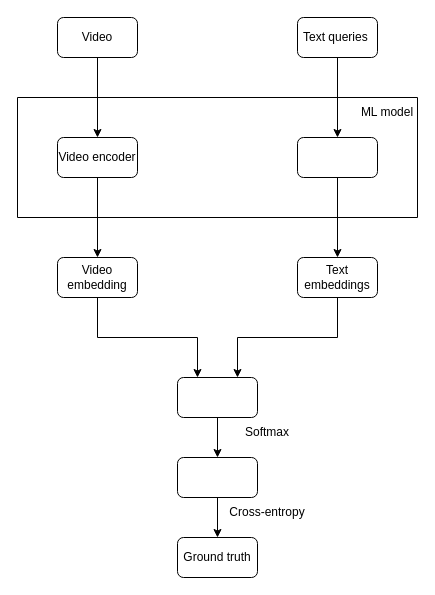
Some shapes in this 435 by 595 pixel diagram are drawn without their labels. The shapes that lost their labels are listed below. From the top down, each one's centre as x and y in pixels, then its label:
pixel 337 157: Text encoder
pixel 217 397: Dot products
pixel 217 477: Predictions
